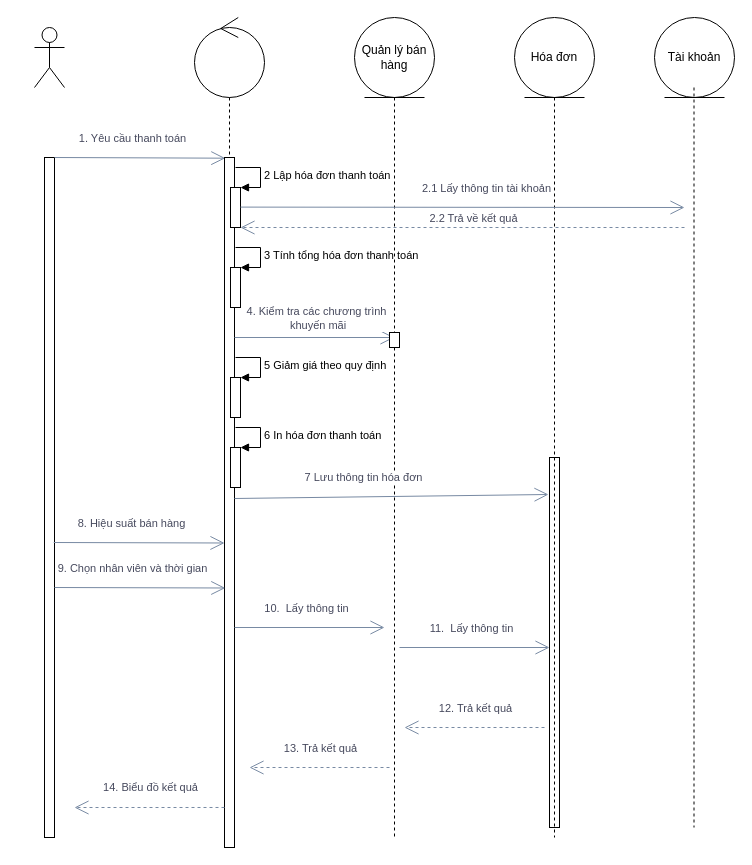
Image size: 752x865. Some labels were removed from this diagram. Here are the shapes that lost their labels. From the top down, the centre of each, then its label:
At (49,57): "Khách hàng".
At (229,57): ":Nhân viên bán hàng".
